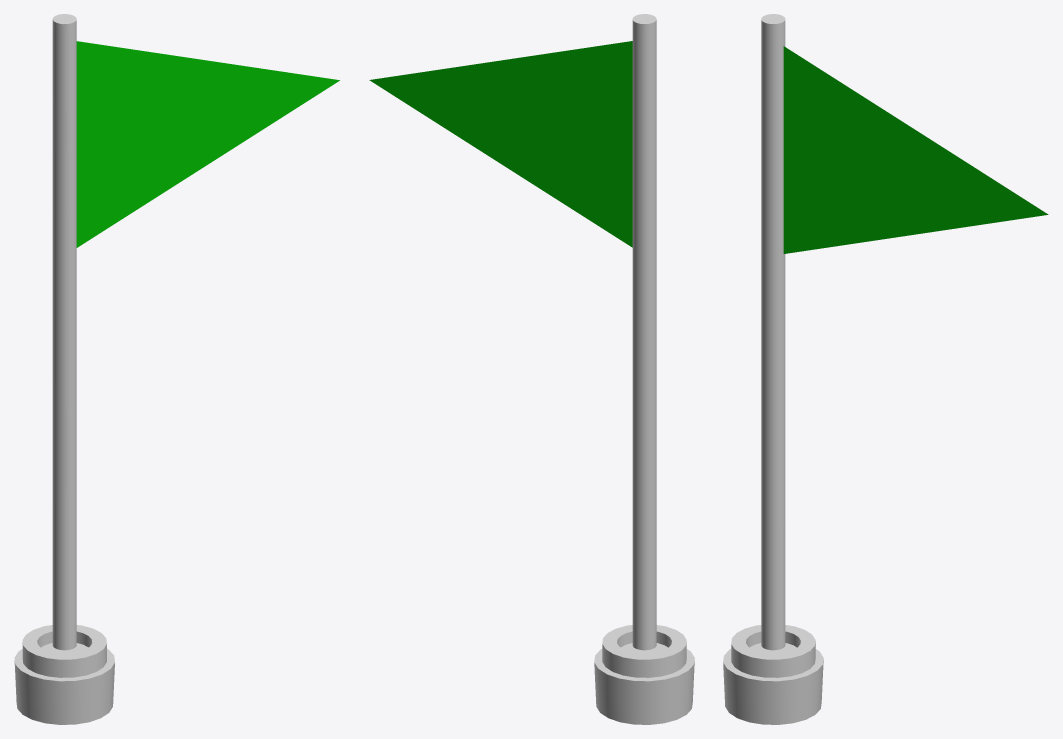
File: Flag.fbx
The picture shows the model from 3 angles, left to right: view 1: azimuth 30°, elevation 25°; view 2: azimuth 150°, elevation 25°; view 3: azimuth 330°, elevation 25°; orthographic projection.
Visible parts, largest first — view 1: Flag1, Column, Bottom; view 2: Flag2, Column, Bottom; view 3: Flag1, Column, Bottom.
Boxes of the visible parts, x1,y1,x2,y2 form: Flag1: [76, 41, 339, 247]; Column: [52, 14, 76, 650]; Bottom: [14, 625, 114, 724]; Flag2: [369, 41, 632, 247]; Column: [632, 14, 656, 650]; Bottom: [594, 625, 694, 724]; Flag1: [783, 46, 1048, 253]; Column: [761, 14, 785, 650]; Bottom: [723, 625, 823, 724].
Size of the model in its own units: 9.51 by 19.57 by 2.61.
